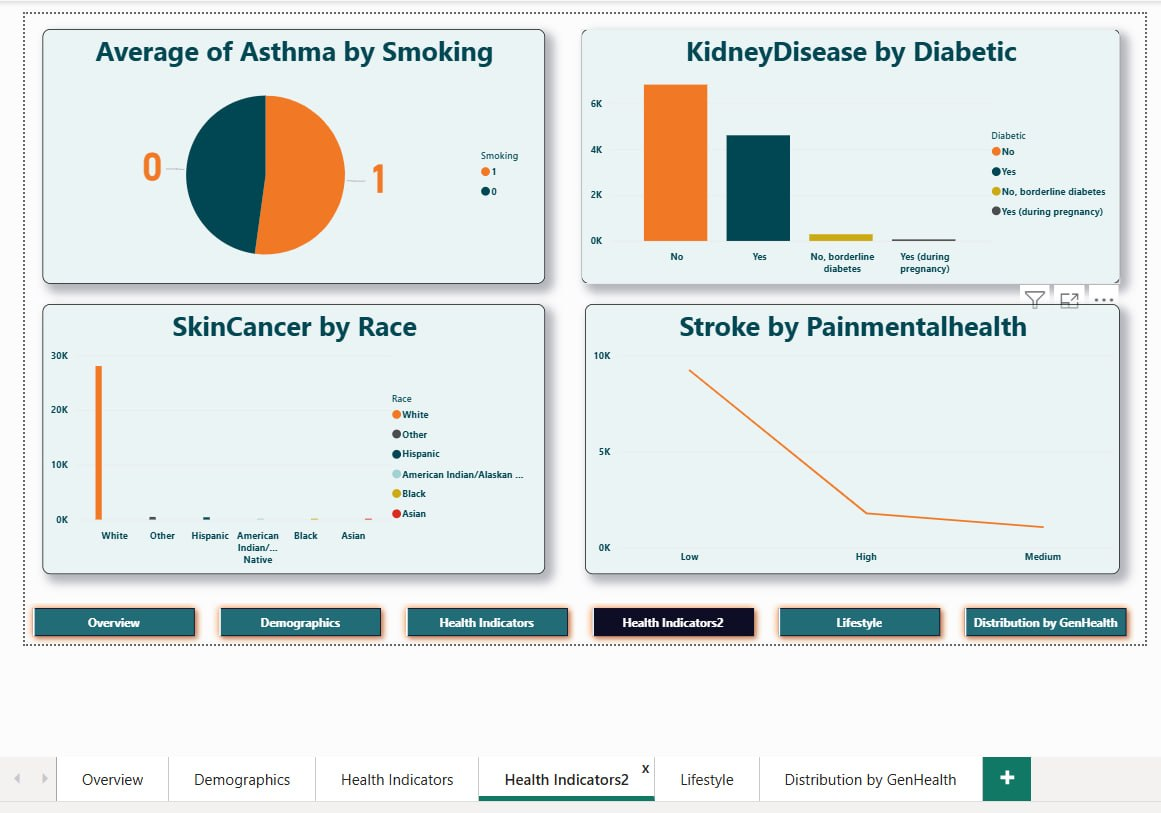

What the dashboard file says about the page in this screenshot:
{"tool":"powerbi","page":{"name":"Health Indicators2","canvas":[1280,720],"ordinal":3},"visuals":[{"type":"pieChart","fields":{"Category":["heart_disease_transformed.Smoking"],"Y":["Avg(heart_disease_transformed.Asthma)"]},"box":[20,17.1,574.3,291.4],"z":0},{"type":"columnChart","title":" KidneyDisease by Diabetic","fields":{"Y":["Sum(heart_disease_transformed.KidneyDisease)"],"Category":["heart_disease_transformed.Diabetic"],"Series":["heart_disease_transformed.Diabetic"]},"box":[635.7,17.1,615.7,291.4],"z":1},{"type":"clusteredColumnChart","title":"SkinCancer by Race ","fields":{"Y":["Sum(heart_disease_transformed.SkinCancer)"],"Category":["heart_disease_transformed.Race"],"Series":["heart_disease_transformed.Race"]},"box":[20,331.4,574.3,308.6],"z":2},{"type":"lineChart","title":"Stroke by Painmentalhealth","fields":{"Category":["heart_disease_transformed.mental_health_level_PAin"],"Y":["Sum(heart_disease_transformed.Stroke)"]},"box":[640,331.4,611.4,308.6],"z":3},{"type":"pageNavigator","box":[0,670,1270,50],"z":4}]}

Visuals, with their boxes on the page's 1280x720 design canvas (x1, y1, x2, y2). These are canvas units, not pixel positions in the 1161x813 screenshot, which may show the page scaled, cropped or inside an application window:
pieChart - heart_disease_transformed.Smoking x Avg(heart_disease_transformed.Asthma): x1=20, y1=17, x2=594, y2=308
" KidneyDisease by Diabetic" columnChart: x1=636, y1=17, x2=1251, y2=308
"SkinCancer by Race " clusteredColumnChart: x1=20, y1=331, x2=594, y2=640
"Stroke by Painmentalhealth" lineChart: x1=640, y1=331, x2=1251, y2=640
pageNavigator: x1=0, y1=670, x2=1270, y2=720
